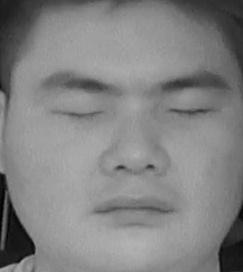blink: (55, 95, 103, 129), (168, 93, 214, 125)
mouth: (95, 186, 177, 234)
